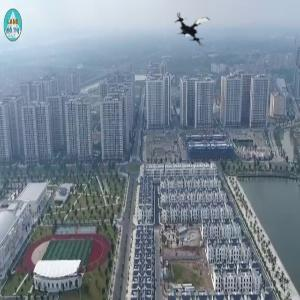drone: (174, 7, 218, 51)
